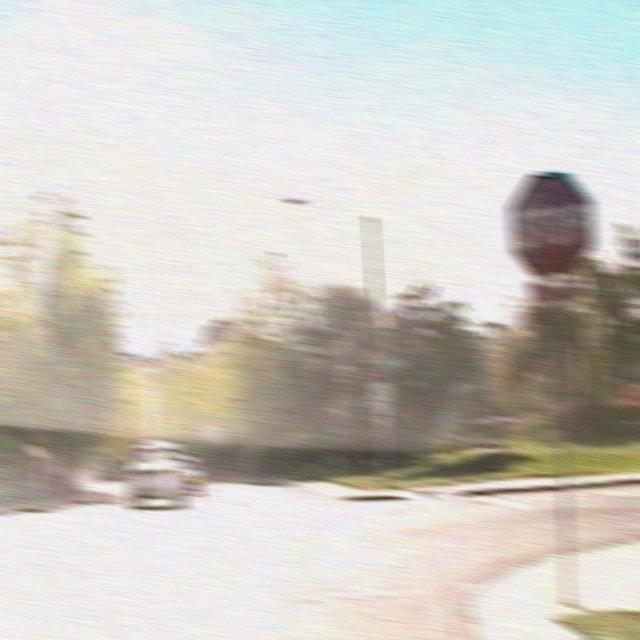stop_sign: (508, 170, 596, 282)
